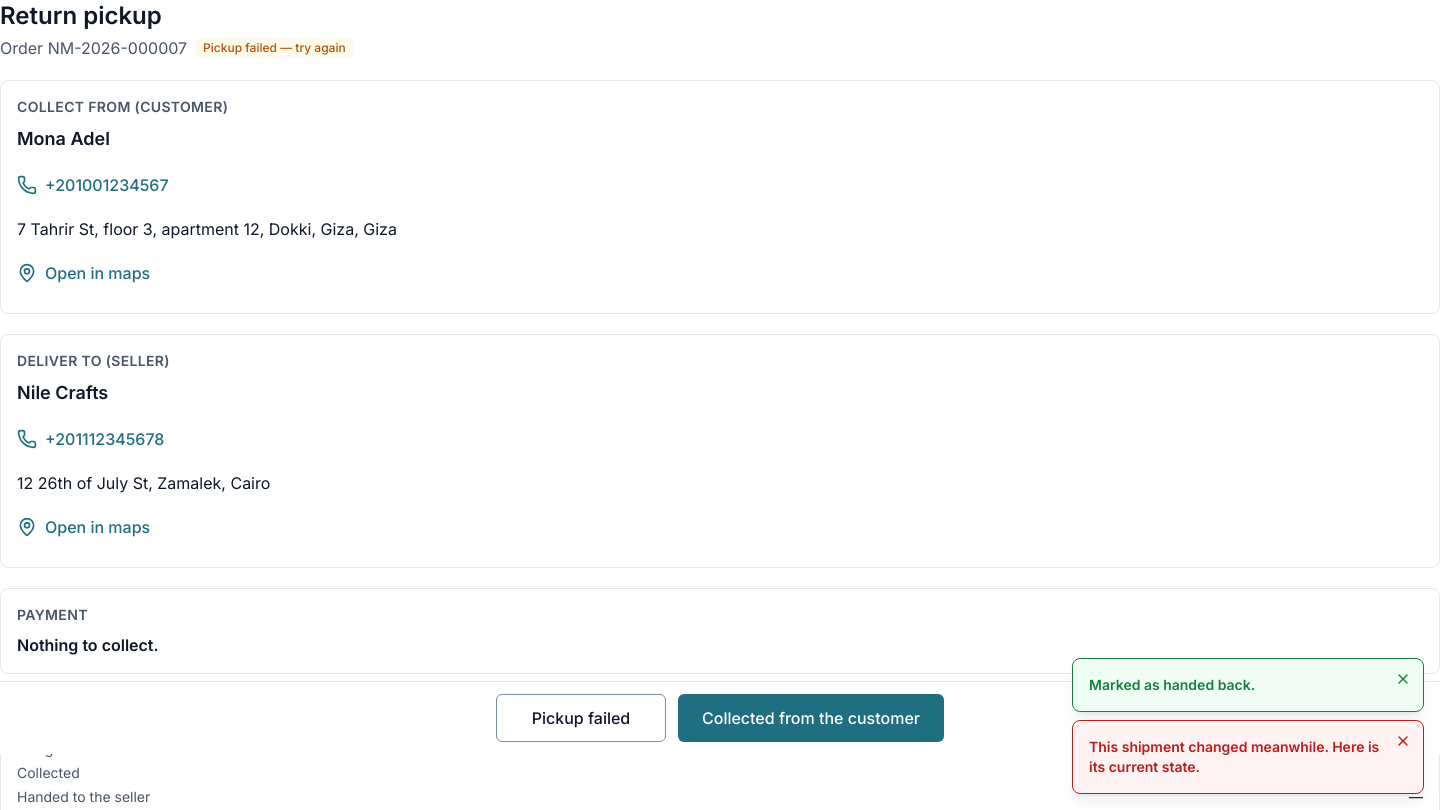
Test: return pickup (spec 04 §7.3, T-N1) › R1 collected: confirmed by the customer name, no key; then R3 is offered
Click the button "Collected from the customer" at [811, 718], box [678,694,944,742]
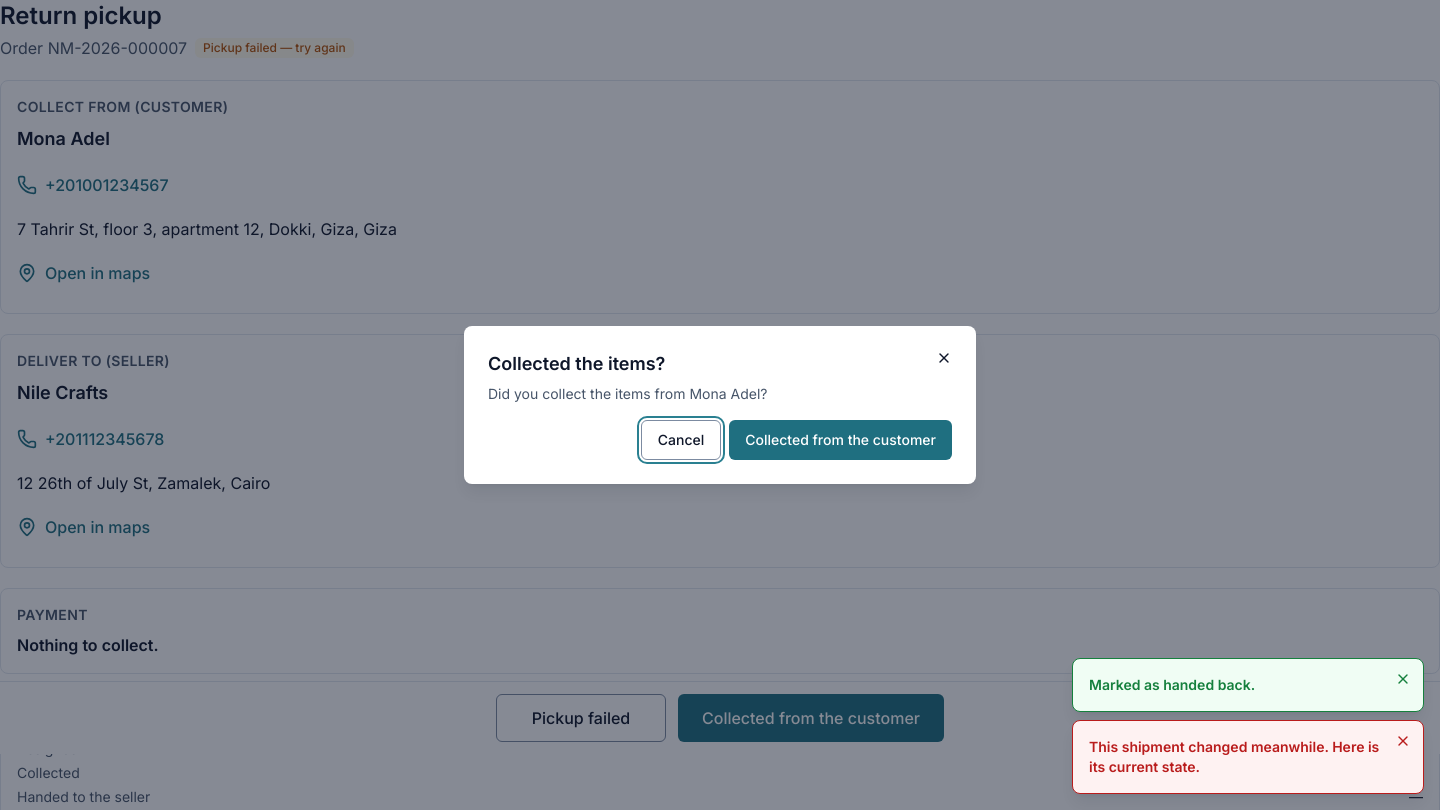
Expected: the text "Did you collect the items from Mona Adel?" is shown, [488,385,768,402]
Click the button "Collected from the customer" at [841, 440], box [729,420,952,460]
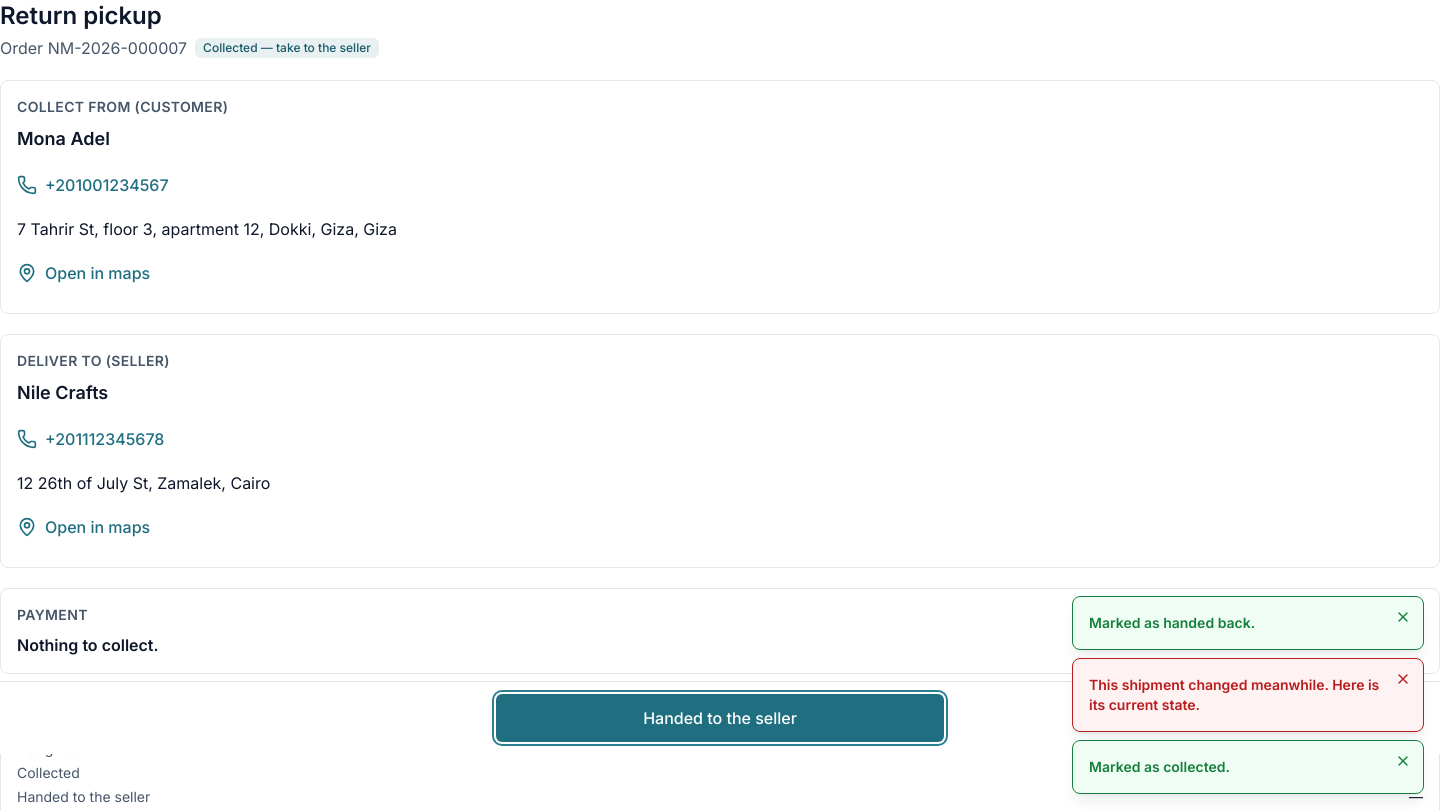
Expected: the text "Marked as collected." is shown, [1089,758,1230,775]
Expected: the button "Handed to the seller" is shown, [496,694,944,742]
Expected: the text "Collected — take to the seller" is shown, [195,38,379,58]
